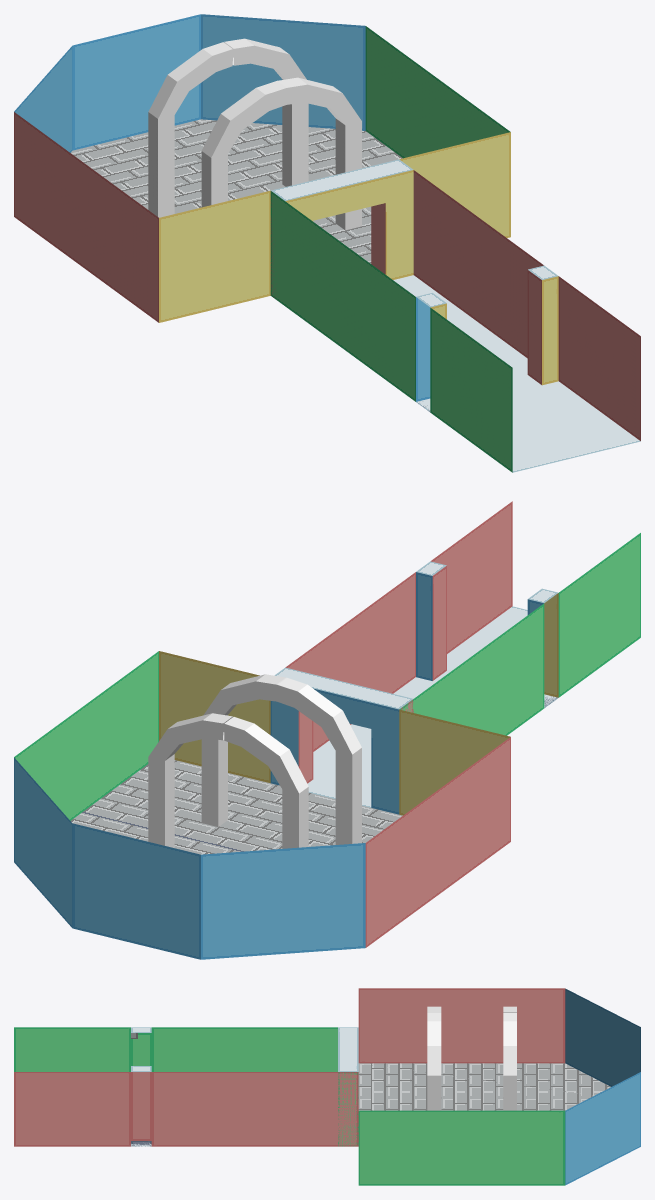
Rendered from Stanza castello.gltf.
3 renders of one model, top to bottom at view 1: azimuth 30°, elevation 25°; view 2: azimuth 150°, elevation 25°; view 3: azimuth 270°, elevation 25°, orthographic. The views are drawn at different scales.
Visible parts, largest first — view 1: walls, cuboid (×4); view 2: walls, cuboid (×4); view 3: walls, cuboid (×2).
Boxes of the visible parts, x1,y1,x2,y2 form: walls: [14, 14, 640, 472]; cuboid (×4): [148, 38, 361, 230]; walls: [14, 501, 640, 959]; cuboid (×4): [148, 674, 361, 848]; walls: [14, 988, 640, 1185]; cuboid (×2): [427, 1013, 516, 1110].
Size of the model in its own units: 2.62 by 1.12 by 5.69.
2 materials, 1 textured.
